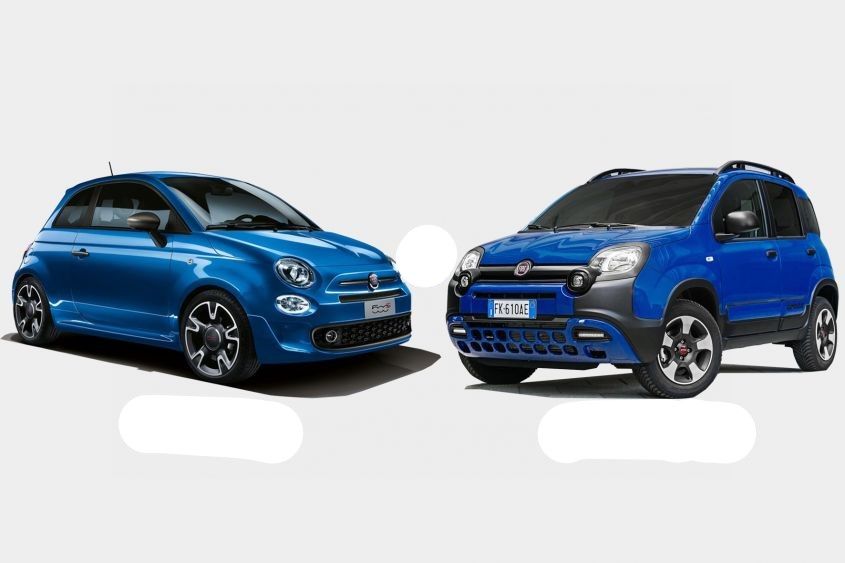car: (444, 160, 841, 400), (11, 171, 411, 385)
